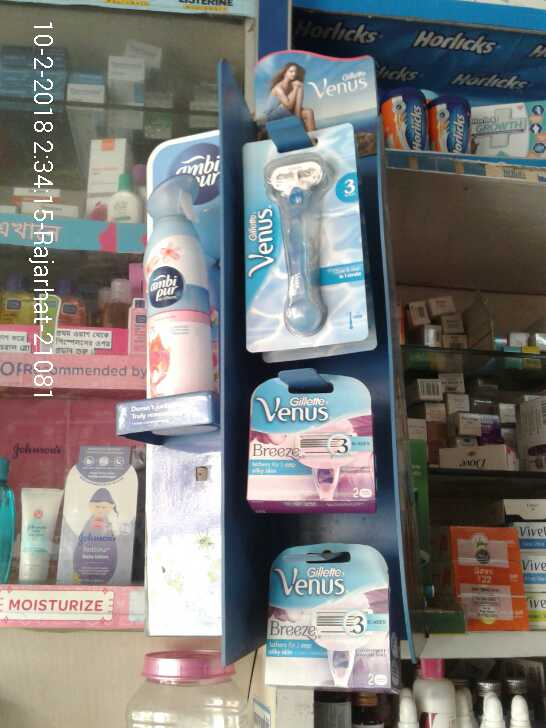beauty: (240, 129, 376, 348), (253, 539, 403, 688), (238, 366, 379, 513)
home: (138, 168, 221, 402)
